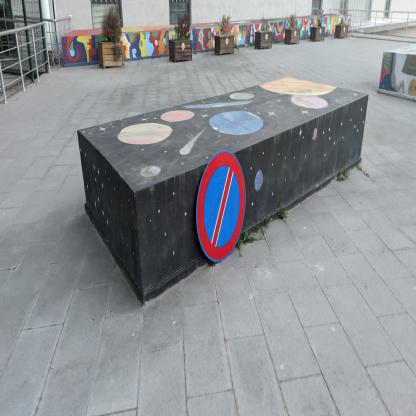No Waiting: (200, 156, 246, 260)
